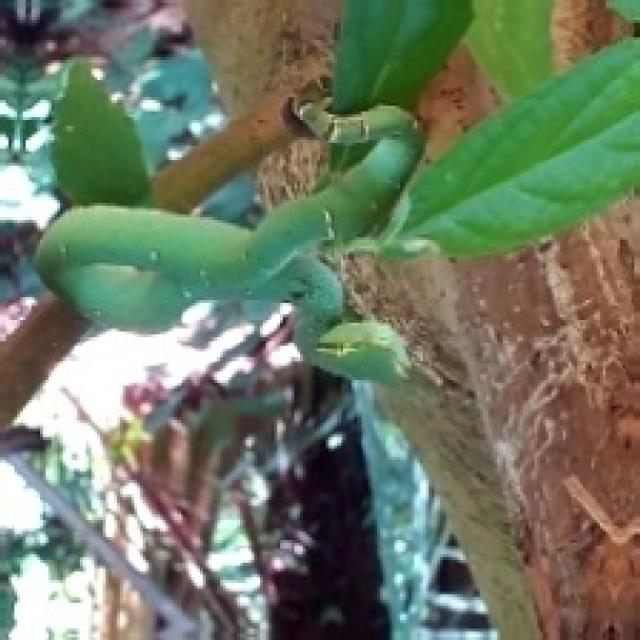north ph temple pitviper: (37, 106, 417, 377)
